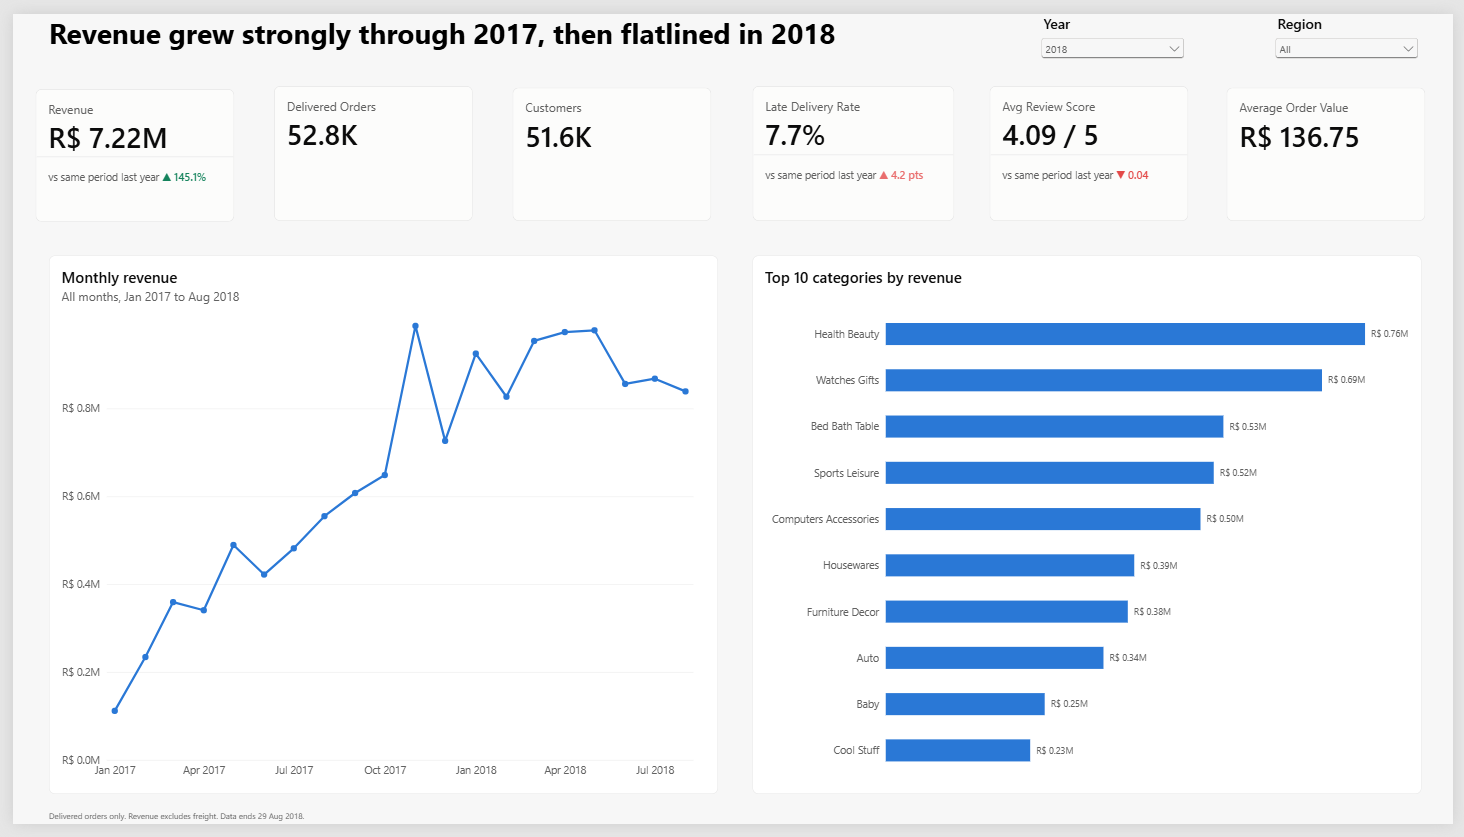

The dashboard page shown, as its layout file describes it:
{"tool":"powerbi","page":{"name":"Page 1","canvas":[1920,1080],"ordinal":0},"visuals":[{"type":"slicer","fields":{"Values":["dim_sellers.seller_region"]},"box":[1678,0,200,66],"z":0},{"type":"slicer","fields":{"Values":["dim_date.year"]},"box":[1366,0,200,66],"z":1000},{"type":"cardVisual","fields":{"Data":["Measures (2).Revenue"]},"box":[30.4,99.6,265,177.8],"z":2000},{"type":"cardVisual","fields":{"Data":["Measures (2).Delivered Orders"]},"box":[348.1,95.6,265,180],"z":3000},{"type":"cardVisual","fields":{"Data":["Measures (2).Customers"]},"box":[665.7,98,265,178],"z":4000},{"type":"cardVisual","fields":{"Data":["Measures (2).Average Order Value"]},"box":[1618.7,98.7,265,178],"z":5000},{"type":"cardVisual","fields":{"Data":["Measures (2).Avg Review Score"]},"box":[1301,96.9,265,180],"z":6000},{"type":"lineChart","title":"Monthly revenue","fields":{"Category":["dim_date.year_month"],"Y":["Measures (2).Revenue"]},"box":[48,322,892,718],"z":8000},{"type":"barChart","title":"Top 10 categories by revenue","fields":{"Category":["fact_order_items.category"],"Y":["Measures (2).Item Revenue"]},"box":[986,322,892,718],"z":9000},{"type":"textbox","box":[48,0,1172,66],"z":10000},{"type":"textbox","box":[48,1040,552,40],"z":11000},{"type":"cardVisual","fields":{"Data":["Measures (2).Late Delivery Rate"]},"box":[986,96,269.4,180.8],"z":11001}]}

Visuals, with their boxes in screenshot pixels (x1, y1, x2, y2), scaled from the page's 1920x1080 canvas onto the 1464x837 screenshot:
slicer - dim_sellers.seller_region: <box>1279,0,1432,51</box>
slicer - dim_date.year: <box>1042,0,1194,51</box>
cardVisual - Measures (2).Revenue: <box>23,77,225,215</box>
cardVisual - Measures (2).Delivered Orders: <box>265,74,467,214</box>
cardVisual - Measures (2).Customers: <box>508,76,710,214</box>
cardVisual - Measures (2).Average Order Value: <box>1234,76,1436,214</box>
cardVisual - Measures (2).Avg Review Score: <box>992,75,1194,215</box>
"Monthly revenue" lineChart: <box>37,250,717,806</box>
"Top 10 categories by revenue" barChart: <box>752,250,1432,806</box>
textbox: <box>37,0,930,51</box>
textbox: <box>37,806,458,836</box>
cardVisual - Measures (2).Late Delivery Rate: <box>752,74,957,215</box>
